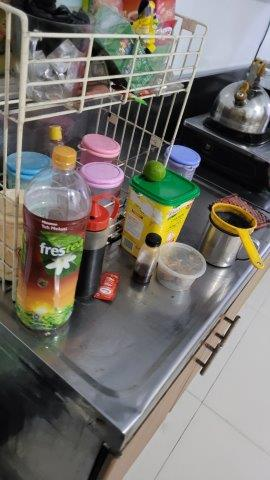botolplastik: (15, 145, 92, 332)
